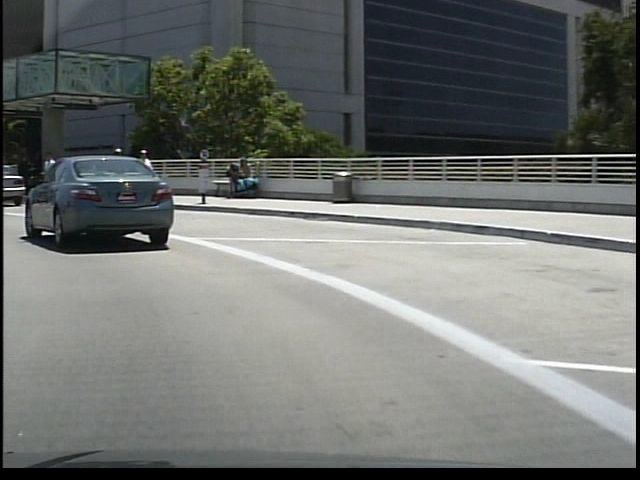person: (32, 150, 58, 211), (131, 147, 152, 202), (104, 145, 125, 200)
